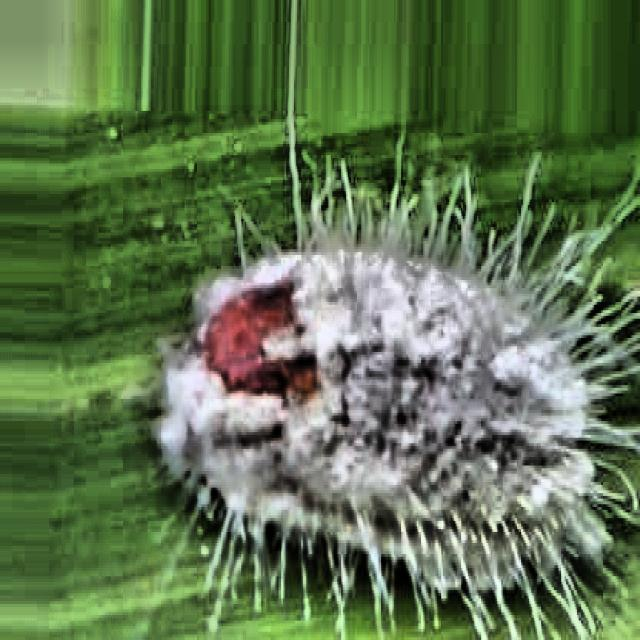Mealy-bug: (128, 101, 640, 635)
